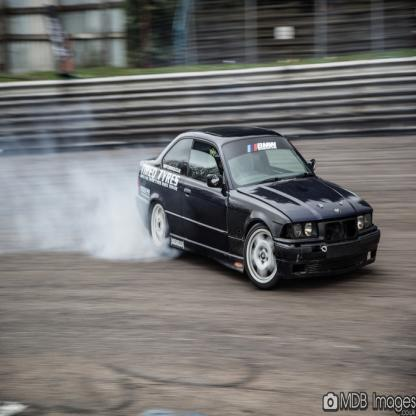Car: (134, 129, 380, 289)
